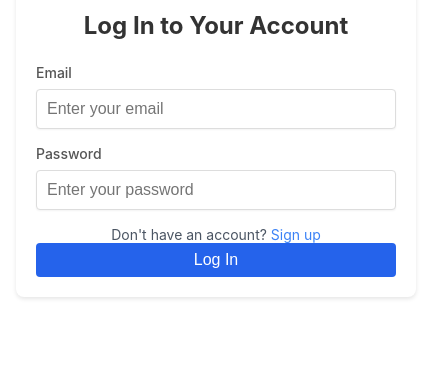
LoginForm Component › displays error message on failed login
In the field labelled "Email": (216, 109) x1=36 y1=89 x2=396 y2=129, type "wrong@example.com"
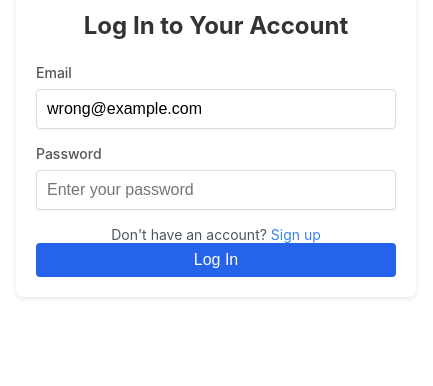
In the password field labelled "Password": (216, 190) x1=36 y1=170 x2=396 y2=210, type "wrong-password"
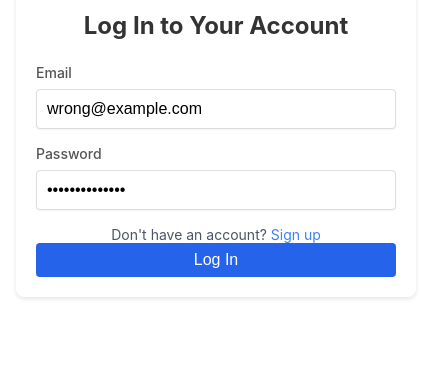
Click the button "Log In": (216, 260) x1=36 y1=243 x2=396 y2=277
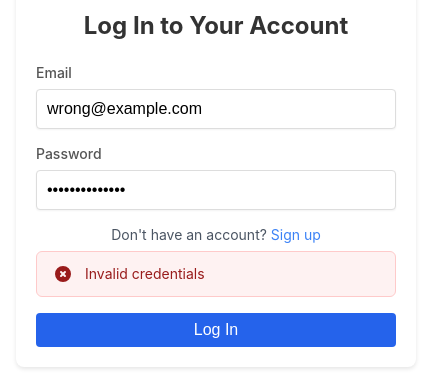
Expected: the text "Invalid credentials" is shown, x1=85 y1=264 x2=205 y2=284
